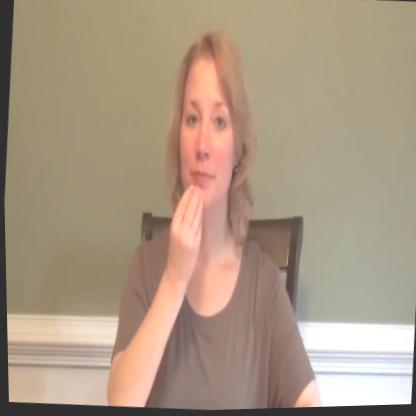Food: (95, 13, 353, 414)
